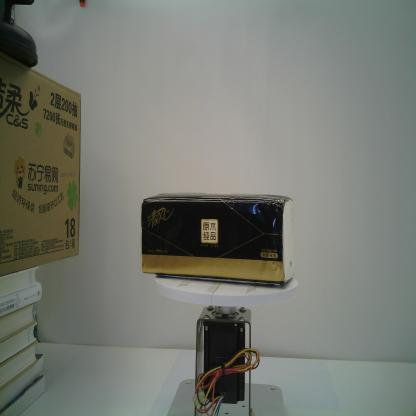Tissue: (141, 191, 295, 283)
